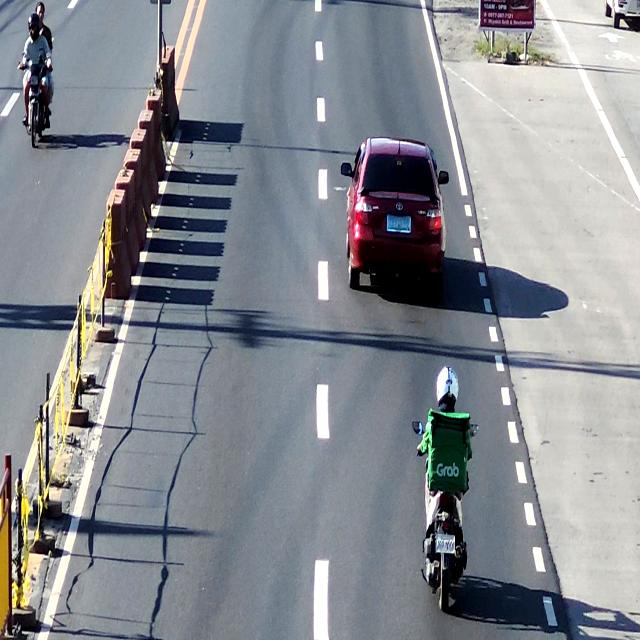Car: (345, 138, 447, 295)
License-Plate: (430, 531, 460, 559), (385, 208, 411, 238)
Motorcycle: (421, 366, 474, 615)
